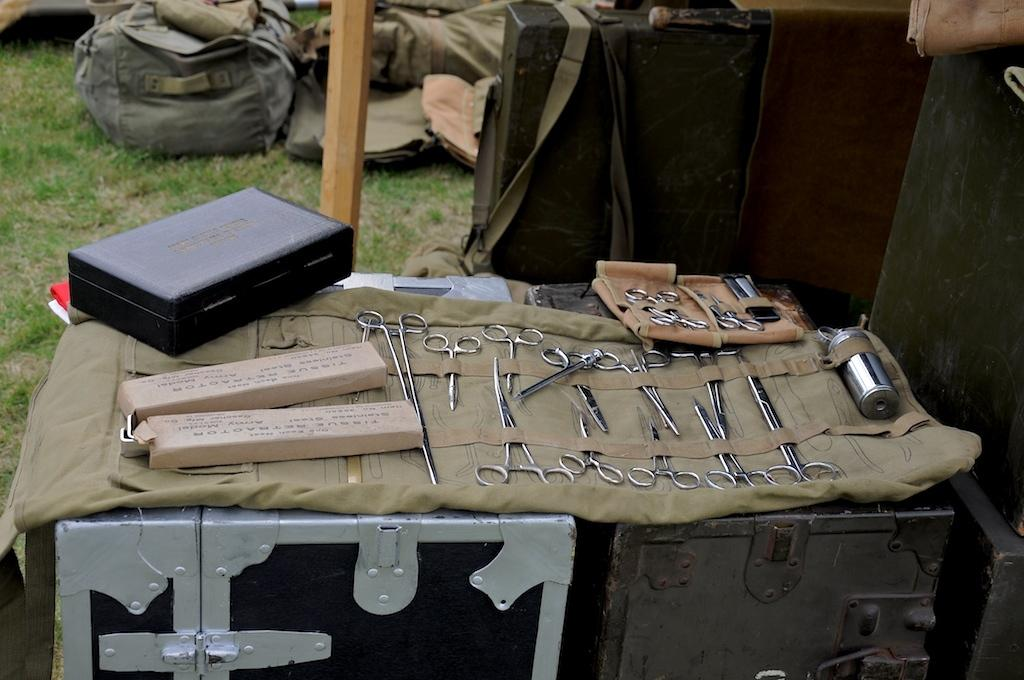Luggage-and-bags: (462, 4, 777, 277), (66, 184, 355, 361), (50, 13, 325, 146)
